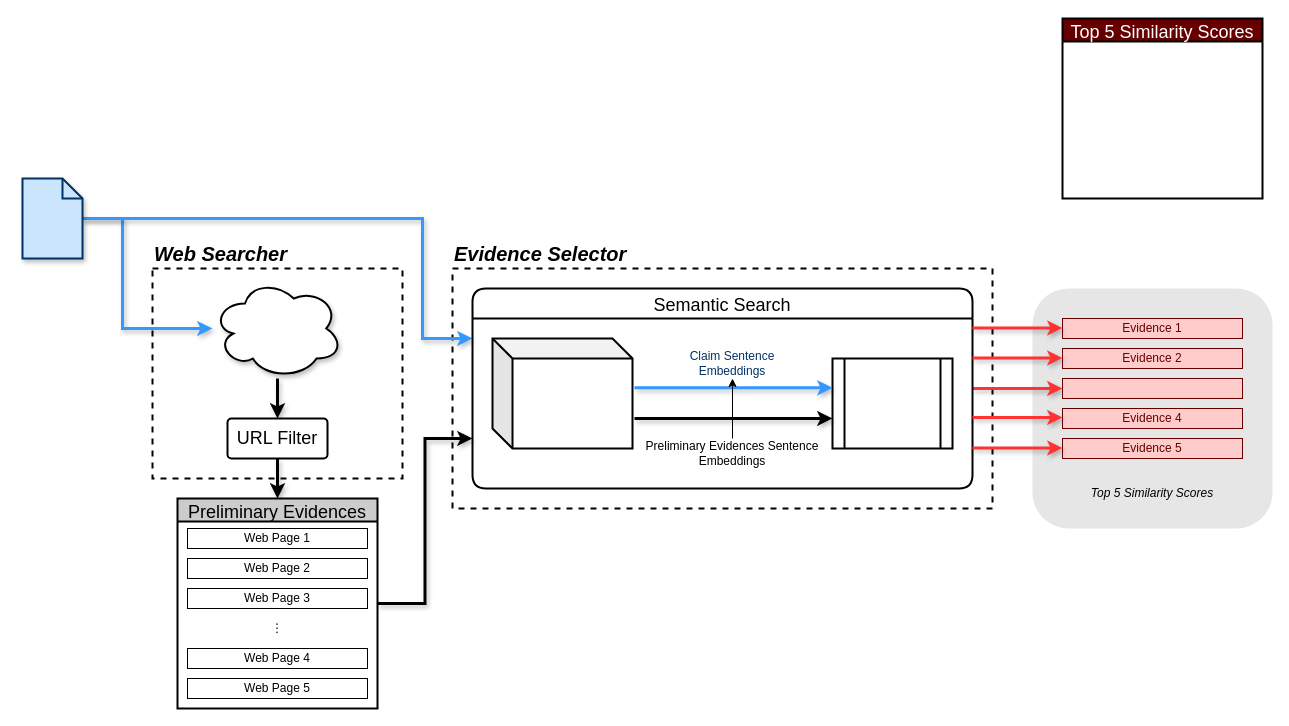
Some shapes in this 1289 by 726 pixel diagram are drawn without their labels. Here are the shapes that lost their labels. From the top down, the centre of each, then its label:
At (x=53, y=219): "Claim".
At (x=278, y=329): "duckduckgo-search API".
At (x=562, y=393): "Filipino RoBERTa Sentence Transformer".
At (x=892, y=403): "Cosine Similarity".
At (x=1152, y=388): "Evidence 3".
